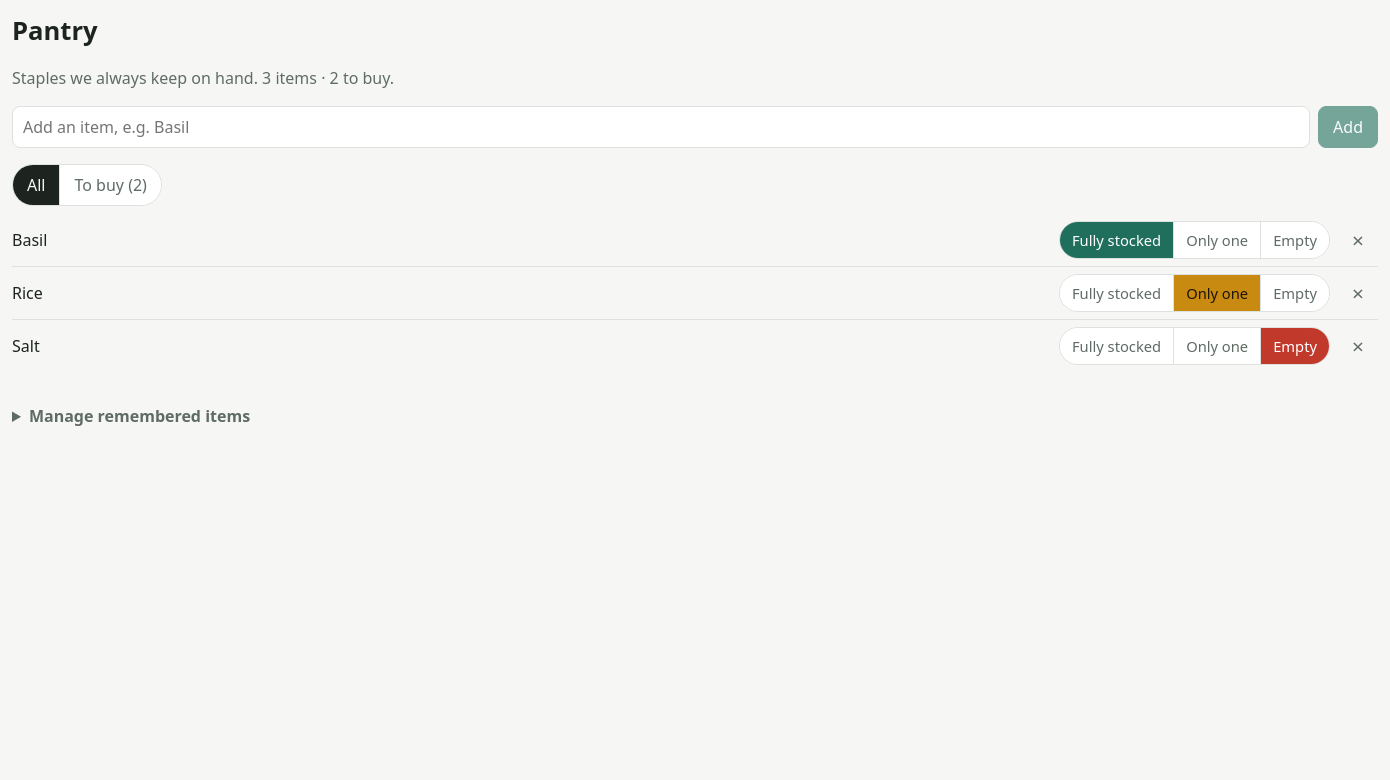
PantryPage › adds an item by typing its name and pressing Enter (P1)
Expected: the text "Basil" is shown, [12, 229, 47, 251]
Step 1. Type "thyme" into the dropdown named "Add to pantry" → {"x": 661, "y": 127}, box [12, 106, 1310, 148]
Then press Enter
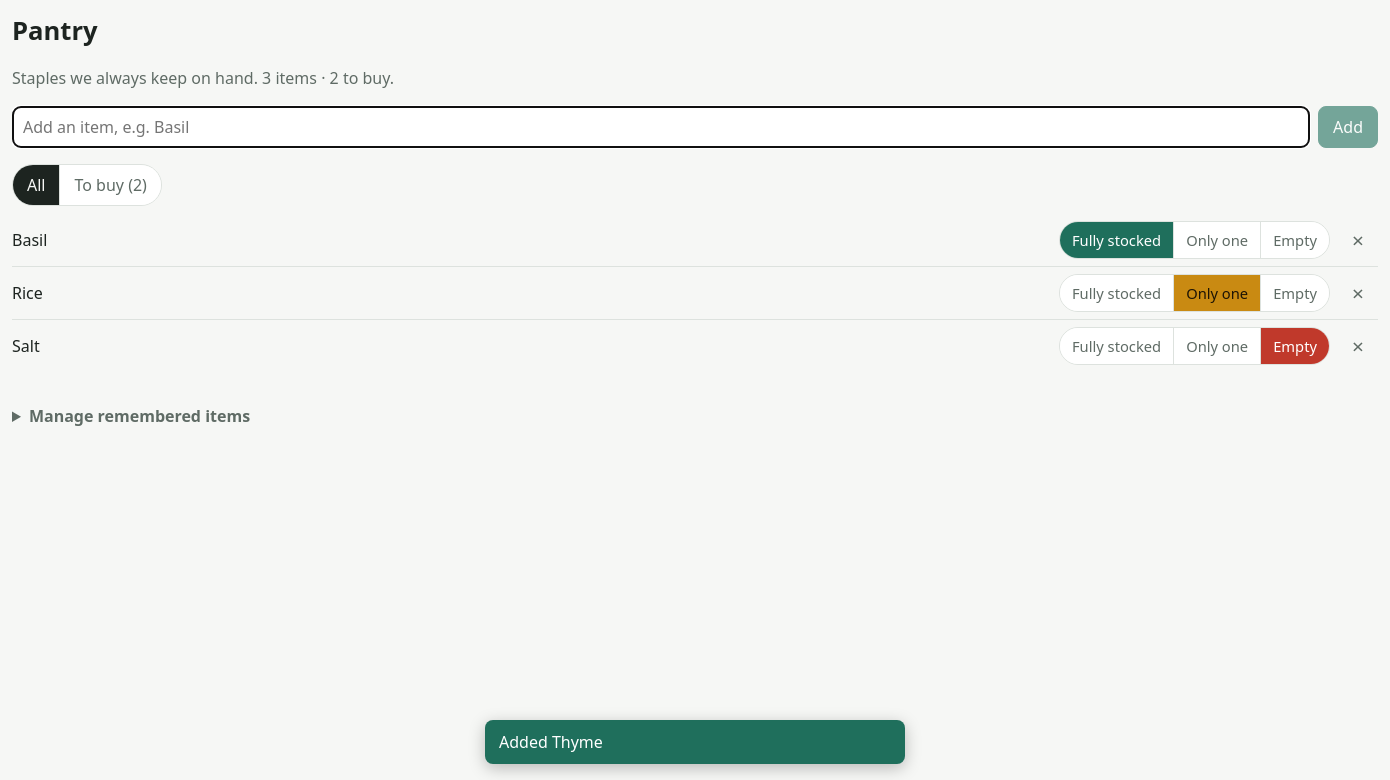
Now the text "Added Thyme" is shown, box [485, 720, 905, 764]
